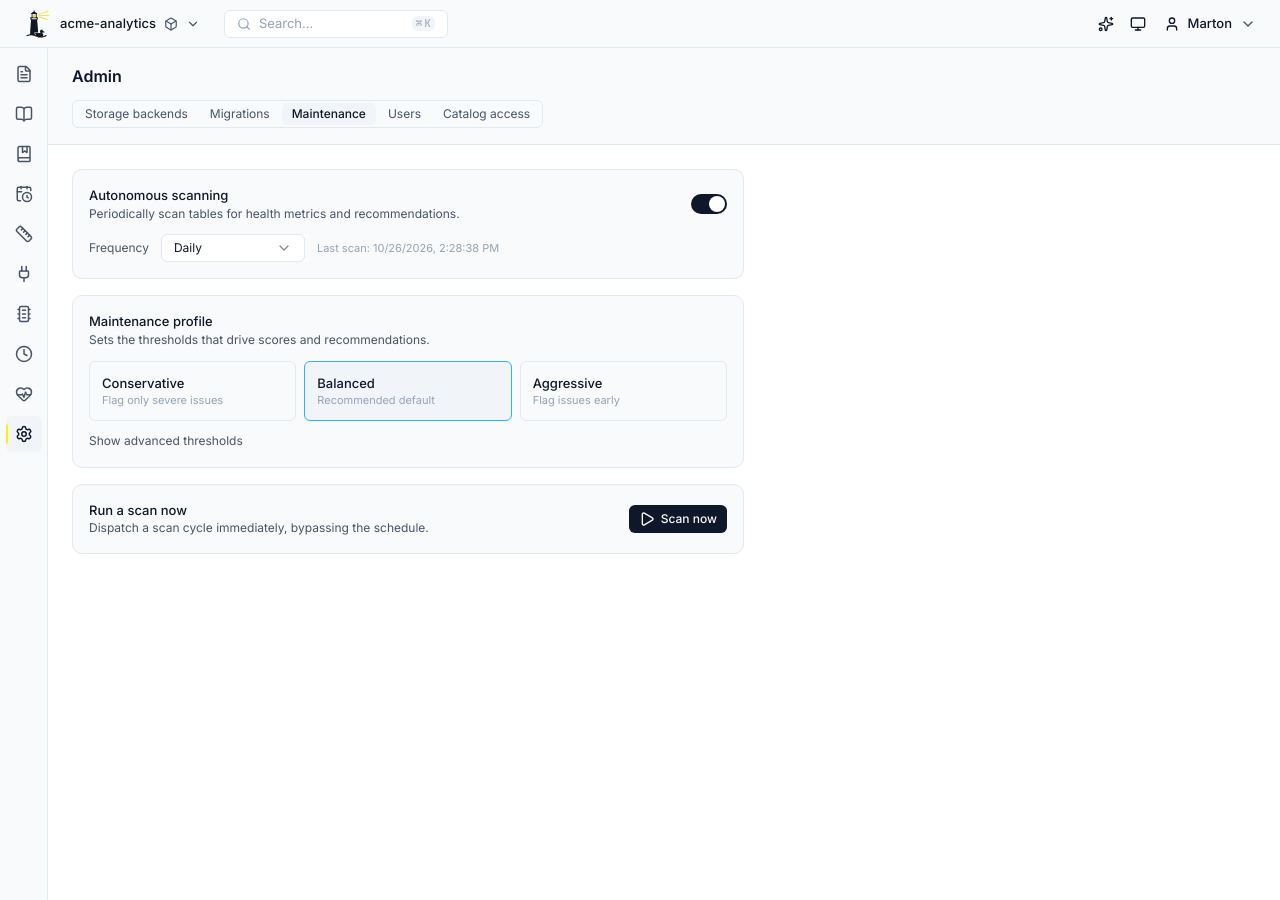
Test: MaintenancePage › reveals the advanced threshold overrides on demand
The width and height of the screenshot is (1280, 900).
Expected: the text "small_file_ratio_warn" is not shown
Click the button "Show advanced thresholds".
click(166, 442)  # box x1=89 y1=434 x2=243 y2=450
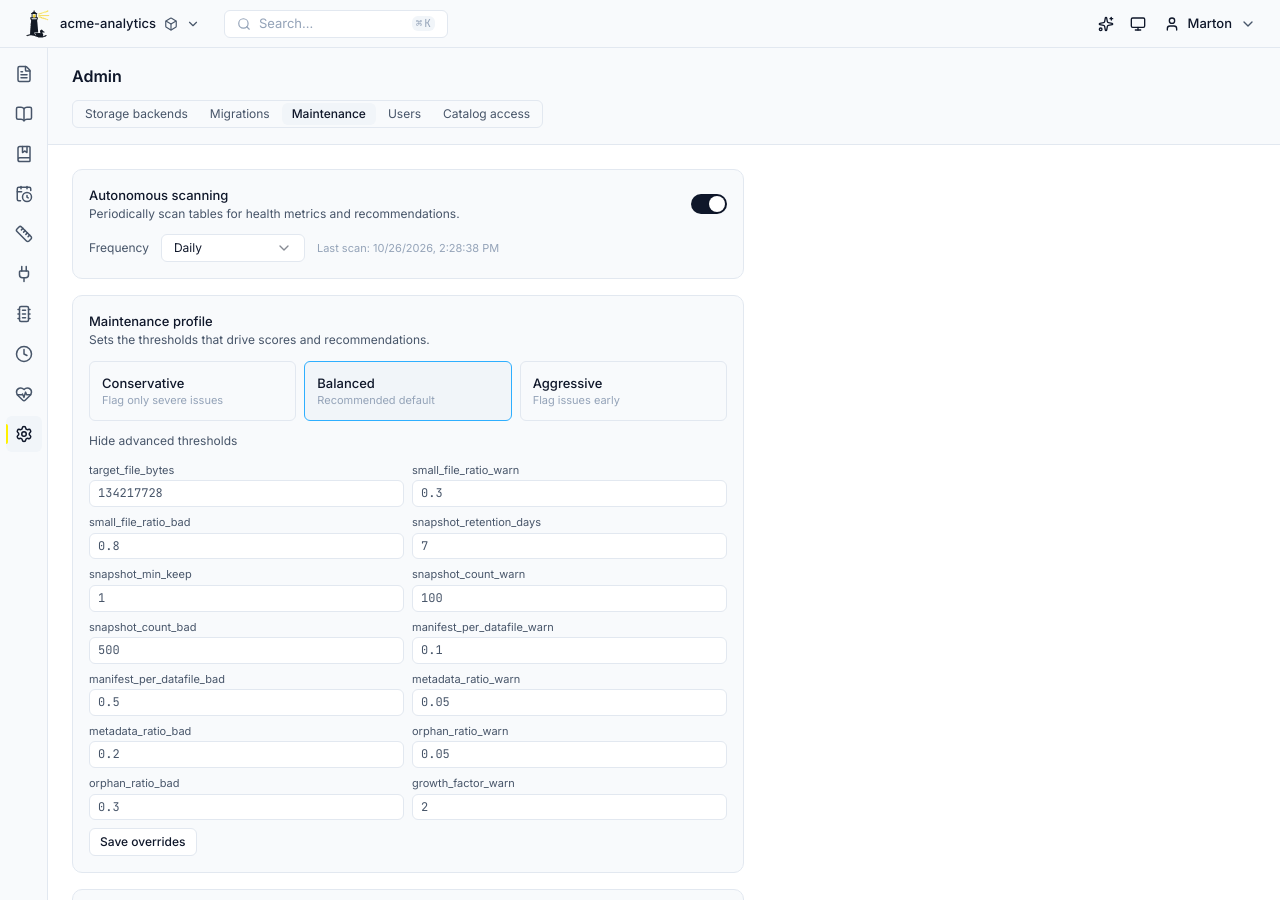
Expected: the text "small_file_ratio_warn" is shown, x1=412 y1=463 x2=727 y2=507
